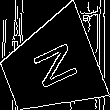N_SW: (22, 39, 78, 96)
